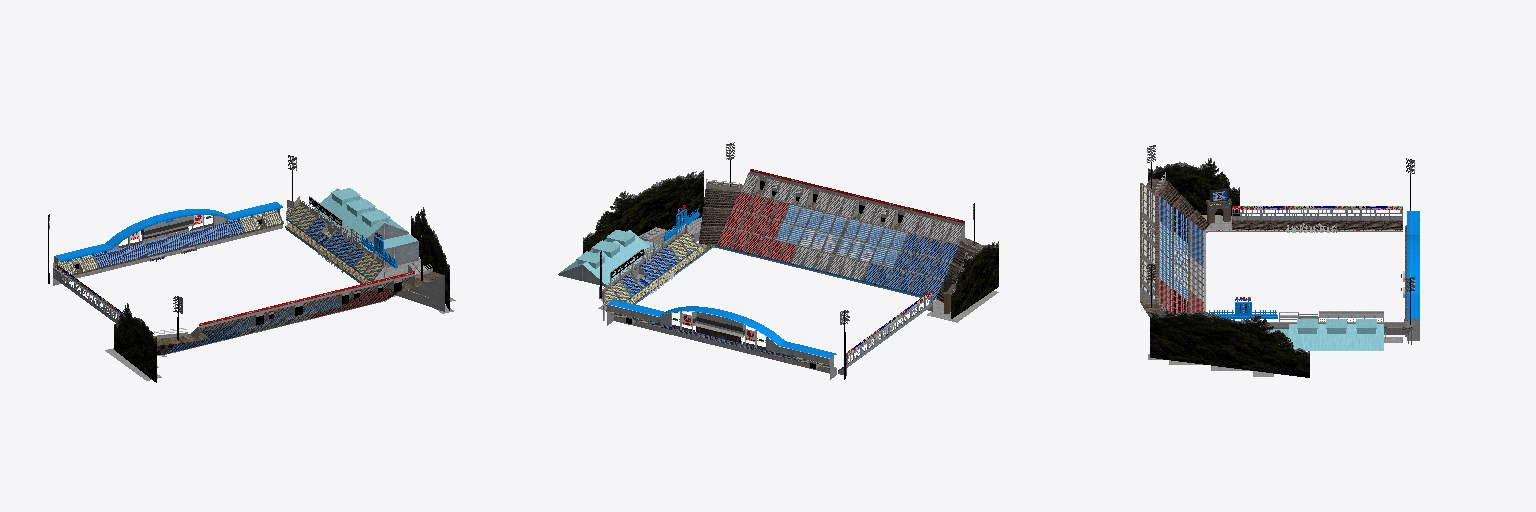
3 views of the same model, side by side, from view 1: azimuth 30°, elevation 25°; view 2: azimuth 150°, elevation 25°; view 3: azimuth 270°, elevation 25° (orthographic).
Parts seen in each view (by area): view 1: Default part_roof, Default part_dside, Default part_uside, Default part_bench, Default part_rside; view 2: Default part_dside, Default part_roof, Default part_bench, Default part_rside, Default part_uside; view 3: Default part_roof, Default part_dside, Default part_bench, Default part_lside, Default part_rside.
Boxes of the visible parts, x1=… form: Default part_roof: x1=49, y1=155, x2=455, y2=382; Default part_dside: x1=154, y1=264, x2=444, y2=354; Default part_uside: x1=58, y1=210, x2=283, y2=280; Default part_bench: x1=48, y1=156, x2=428, y2=340; Default part_rside: x1=285, y1=196, x2=387, y2=283; Default part_dside: x1=699, y1=169, x2=983, y2=302; Default part_roof: x1=583, y1=142, x2=998, y2=379; Default part_bench: x1=558, y1=143, x2=974, y2=379; Default part_rside: x1=603, y1=231, x2=712, y2=320; Default part_uside: x1=608, y1=311, x2=829, y2=373; Default part_roof: x1=1140, y1=145, x2=1419, y2=377; Default part_dside: x1=1140, y1=172, x2=1209, y2=316; Default part_bench: x1=1151, y1=146, x2=1410, y2=350; Default part_lside: x1=1208, y1=206, x2=1402, y2=231; Default part_rside: x1=1274, y1=311, x2=1412, y2=344.
Bounding box in the file's own units: 96.18 × 21.99 × 68.61.
Materials: 6 (6 with a texture image).